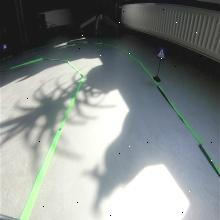crosswalk: (156, 46, 167, 60)
